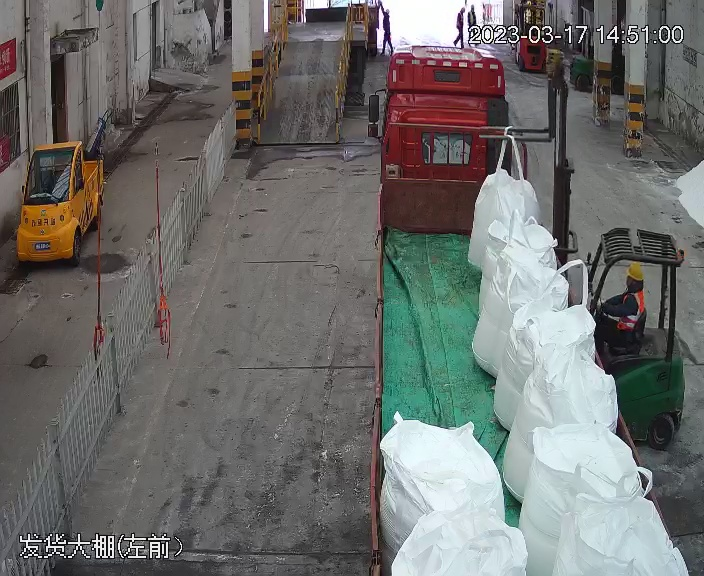head: (615, 261, 646, 309)
helmet: (616, 260, 646, 308), (626, 261, 644, 281)
people: (599, 259, 651, 350)
truck: (355, 41, 691, 573)
